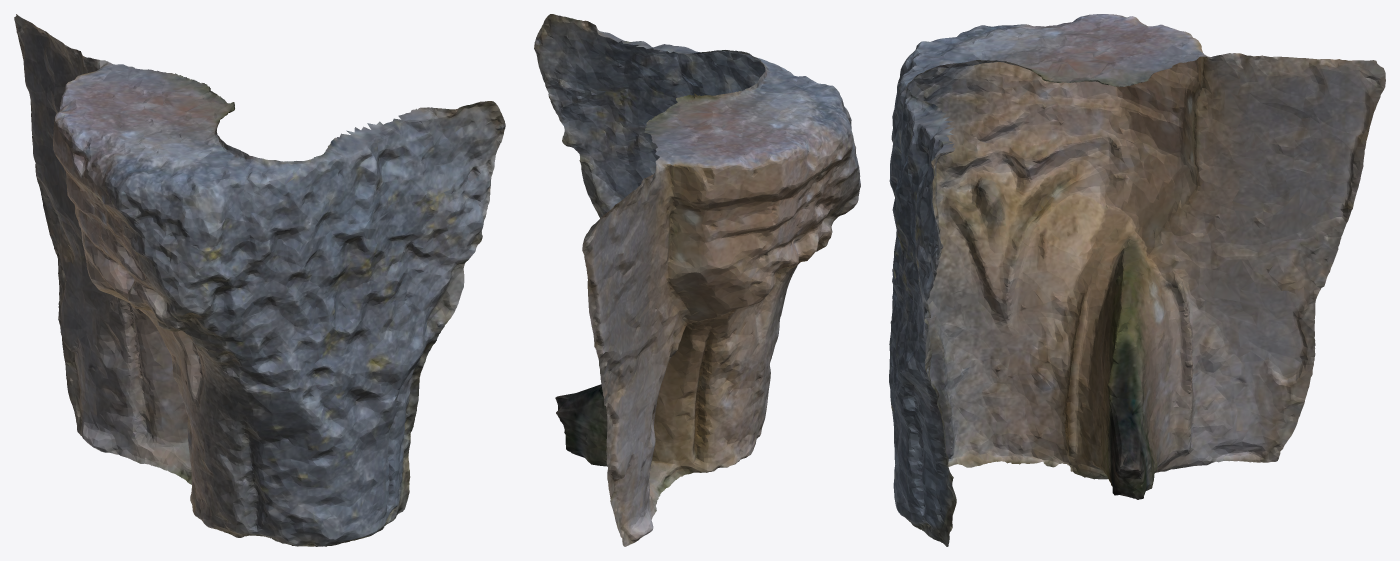
File: M18-chapiteau-D.glb
3 views of the same model, side by side, from view 1: azimuth 30°, elevation 25°; view 2: azimuth 150°, elevation 25°; view 3: azimuth 270°, elevation 25° (orthographic). The views are drawn at different scales.
Visible parts, largest first — view 1: M18-chapiteau-D_25K; view 2: M18-chapiteau-D_25K; view 3: M18-chapiteau-D_25K.
Boxes of the visible parts, box(x1,y1,x2,y2) form: M18-chapiteau-D_25K: box(14, 14, 505, 546); M18-chapiteau-D_25K: box(534, 14, 860, 546); M18-chapiteau-D_25K: box(889, 14, 1385, 546).
Size of the model in its own units: 0.2256 by 0.2351 by 0.2584.
Materials: 1 (1 with a texture image).
